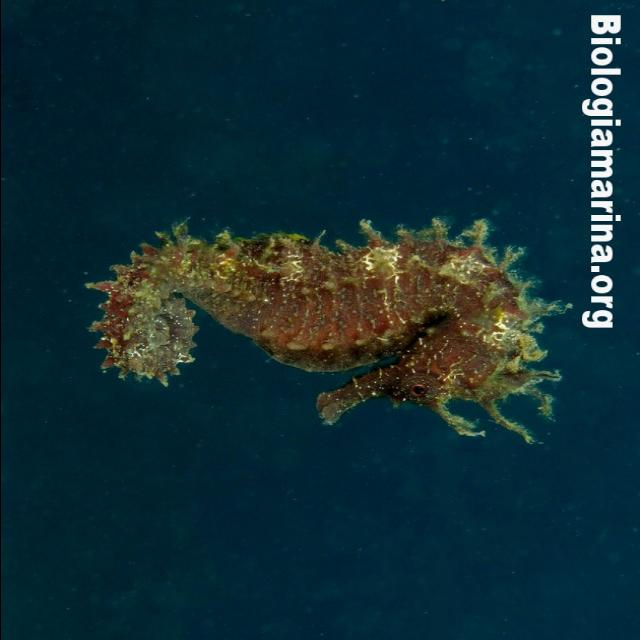Guttu: (297, 328, 557, 434)
